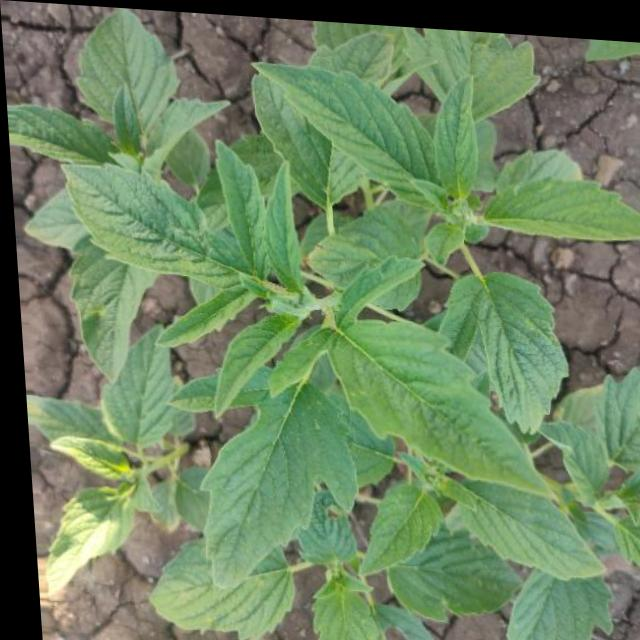crop: (57, 67, 625, 616)
